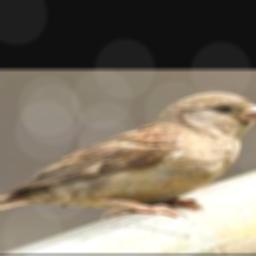Sparrow: (0, 91, 256, 218)
